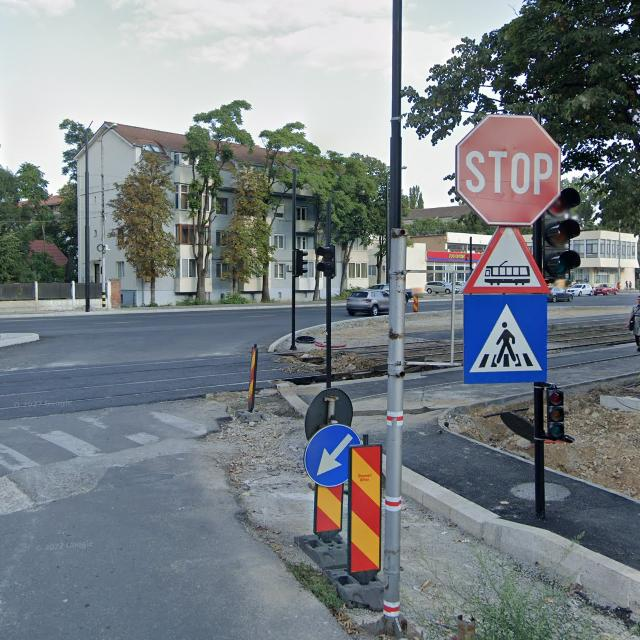info_crosswalk: (462, 292, 548, 384)
mand_pass_left: (304, 423, 359, 487)
prio_stop: (456, 115, 559, 227)
warn_tram: (463, 225, 551, 293)
